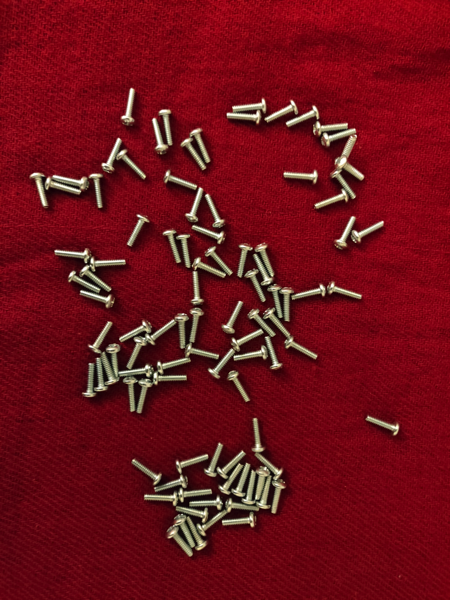shortscrew: (117, 149, 149, 183), (80, 263, 113, 295), (130, 455, 164, 486), (190, 256, 229, 283), (165, 525, 195, 560), (180, 137, 209, 173), (330, 166, 358, 203), (350, 218, 387, 246), (320, 125, 359, 151), (86, 320, 114, 356), (286, 336, 322, 364), (204, 245, 234, 278), (263, 307, 293, 340), (263, 98, 301, 124), (99, 137, 124, 176), (44, 177, 83, 202), (262, 335, 287, 374), (67, 270, 103, 296), (187, 515, 211, 554), (333, 215, 359, 251), (216, 450, 247, 480), (334, 153, 366, 182), (146, 317, 178, 346), (162, 168, 199, 193), (311, 189, 353, 211), (218, 462, 245, 496), (327, 280, 365, 304), (227, 369, 253, 404), (132, 377, 154, 418), (125, 213, 150, 249), (286, 103, 322, 128), (118, 319, 154, 344), (244, 268, 269, 304), (247, 308, 276, 339), (149, 116, 172, 155), (254, 453, 286, 481), (209, 348, 236, 381), (204, 193, 228, 230), (254, 241, 278, 278), (176, 450, 211, 475), (183, 341, 221, 364), (334, 133, 358, 169), (196, 509, 228, 536), (292, 281, 328, 305), (30, 171, 51, 212), (51, 171, 90, 193), (191, 223, 228, 246), (230, 462, 253, 499), (224, 497, 260, 520), (230, 327, 264, 351), (191, 127, 213, 164), (365, 415, 402, 437), (186, 270, 207, 308), (203, 442, 224, 480), (125, 336, 149, 369), (223, 301, 245, 337), (174, 513, 196, 549), (252, 254, 275, 288), (79, 290, 118, 310), (233, 241, 253, 280), (253, 466, 272, 507), (164, 227, 185, 264), (156, 355, 193, 376), (233, 343, 270, 364), (154, 472, 191, 493), (268, 478, 289, 515), (99, 351, 121, 386), (88, 171, 107, 210), (157, 109, 177, 146), (143, 490, 180, 510), (106, 342, 123, 385), (226, 108, 264, 127), (230, 96, 270, 114), (280, 168, 320, 186), (184, 187, 204, 223), (151, 369, 191, 387), (222, 512, 258, 532), (186, 306, 205, 343), (90, 254, 129, 272), (249, 416, 267, 455), (177, 503, 210, 524), (54, 246, 92, 264), (122, 375, 139, 414), (241, 469, 258, 508), (122, 86, 138, 127), (314, 120, 350, 138), (176, 233, 194, 269), (92, 356, 109, 394), (268, 283, 285, 319), (177, 487, 213, 504), (190, 493, 224, 511), (174, 312, 190, 350), (280, 285, 296, 323), (81, 362, 97, 399), (119, 362, 153, 378), (260, 475, 273, 510)
